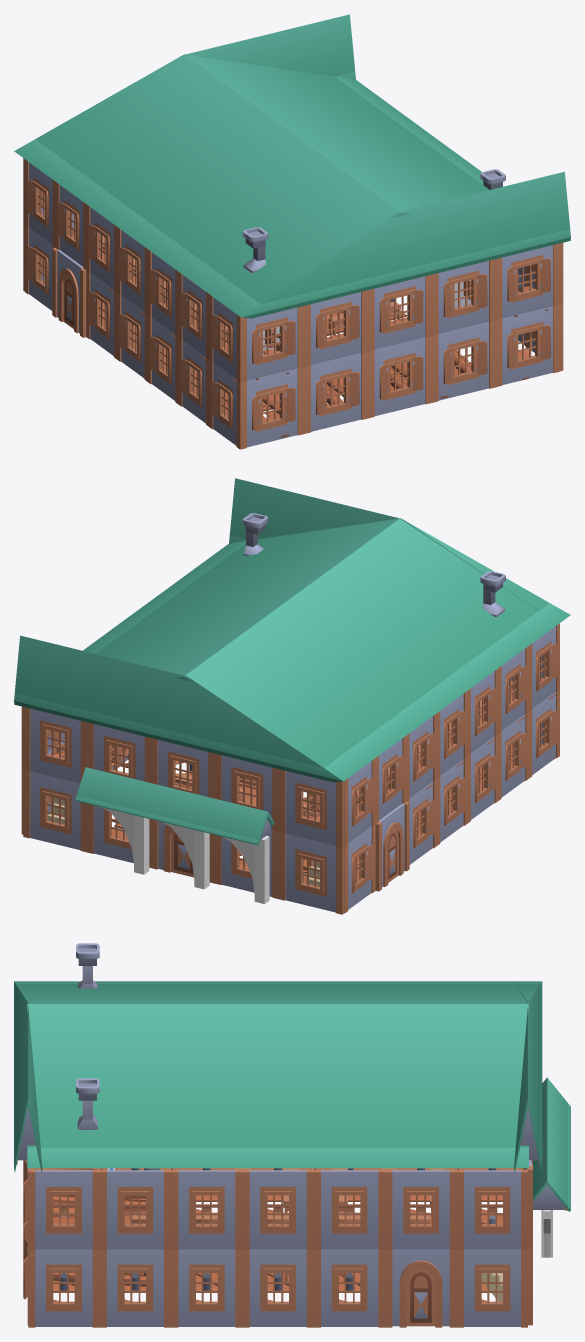
File: london_bld_theater.glb
3 renders of one model, top to bottom at view 1: azimuth 30°, elevation 25°; view 2: azimuth 150°, elevation 25°; view 3: azimuth 270°, elevation 25°, orthographic. The views are drawn at different scales.
Visible parts, largest first — view 1: wall-window-shutters (×23), roof-gable (×7), roof-gable-end (×2), wall-door; view 2: roof-gable (×10), wall-window-shutters (×22), roof-gable-end (×2), Grey_Arch_01 (×3), wall-door (×2), door; view 3: roof-gable (×10), wall-window-shutters (×13), roof-gable-end (×2), wall-door, door, chimney-top (×2), Grey_Arch_01, platform-planks.
Part boxes in pixels (x1=…): wall-window-shutters (×23): x1=25, y1=159, x2=559, y2=449; roof-gable (×7): x1=26, y1=54, x2=489, y2=308; roof-gable-end (×2): x1=14, y1=14, x2=570, y2=318; wall-door: x1=52, y1=248, x2=86, y2=337; roof-gable (×10): x1=75, y1=518, x2=558, y2=845; wall-window-shutters (×22): x1=23, y1=623, x2=559, y2=914; roof-gable-end (×2): x1=14, y1=478, x2=570, y2=782; Grey_Arch_01 (×3): x1=101, y1=807, x2=269, y2=903; wall-door (×2): x1=151, y1=801, x2=409, y2=891; door: x1=171, y1=830, x2=193, y2=877; roof-gable (×10): x1=27, y1=981, x2=570, y2=1211; wall-window-shutters (×13): x1=28, y1=1169, x2=527, y2=1327; roof-gable-end (×2): x1=14, y1=981, x2=542, y2=1172; wall-door: x1=385, y1=1249, x2=456, y2=1327; door: x1=406, y1=1269, x2=435, y2=1326; chimney-top (×2): x1=76, y1=943, x2=99, y2=1100; Grey_Arch_01: x1=541, y1=1210, x2=552, y2=1257; platform-planks: x1=38, y1=1168, x2=145, y2=1208.
Size of the model in its own units: 18.6 by 10.7 by 23.4.
14 materials, 11 textured.
